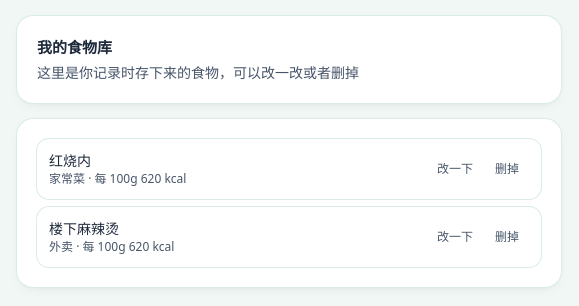
C-4 我的食物库 · 删除 › 点「删掉」→ 调 DELETE /foods/:id，成功后列表更新（该条消失）
Expected: the text "红烧内" is shown, [49, 150, 91, 170]
Click the button with test id "my-food-delete-11".
click(507, 168)  # box [485, 146, 529, 190]
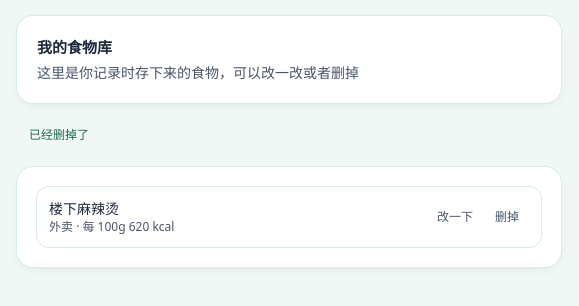
Expected: the text "楼下麻辣烫" is shown, [49, 198, 119, 218]
Now the text "红烧内" is gone
